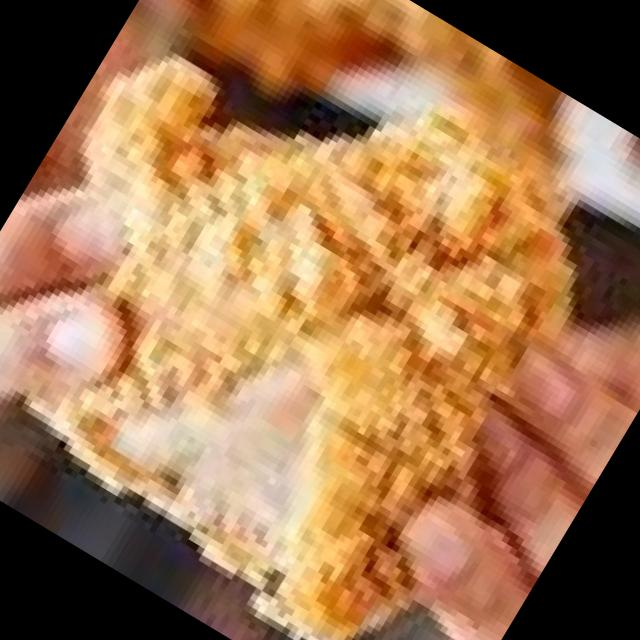Fried Chicken: (71, 56, 569, 640)
